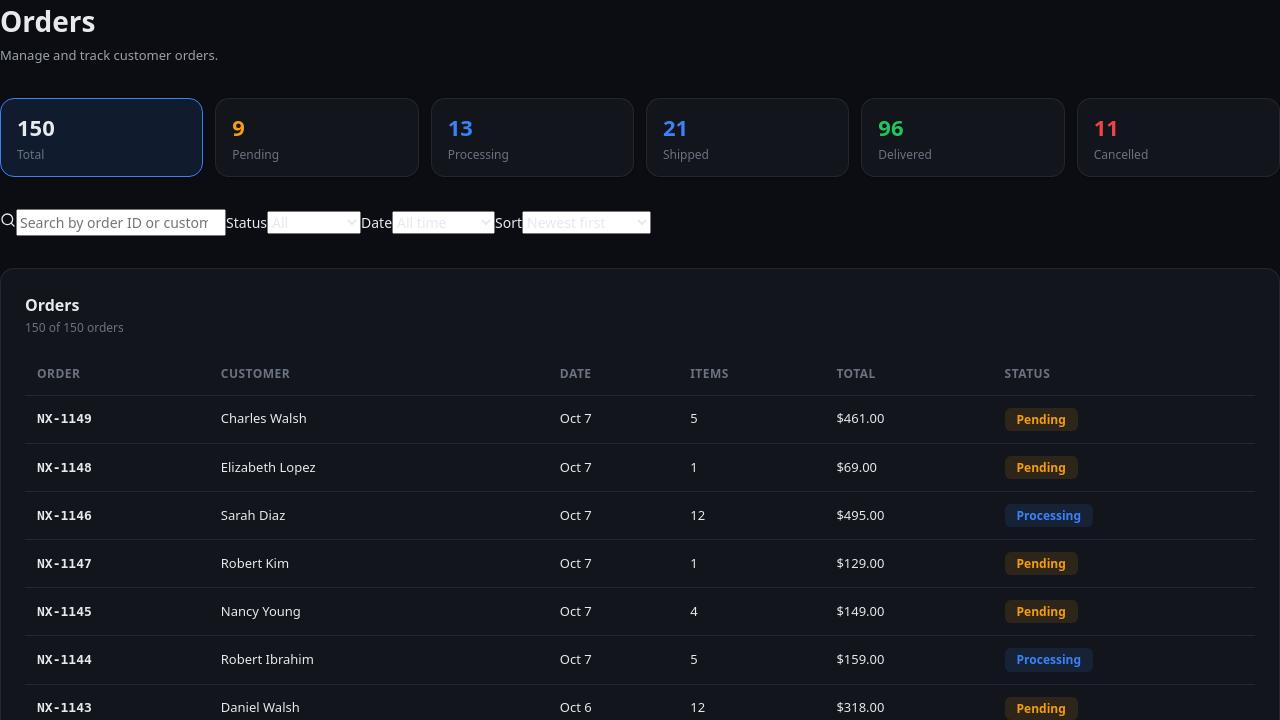
it: Orders page › opens the details drawer when an order row is activated
What coordinates should you click on to do the following:
click the button with aria-label "view order"
I would click on:
 (64, 419)
Its box is x1=37 y1=409 x2=92 y2=429.
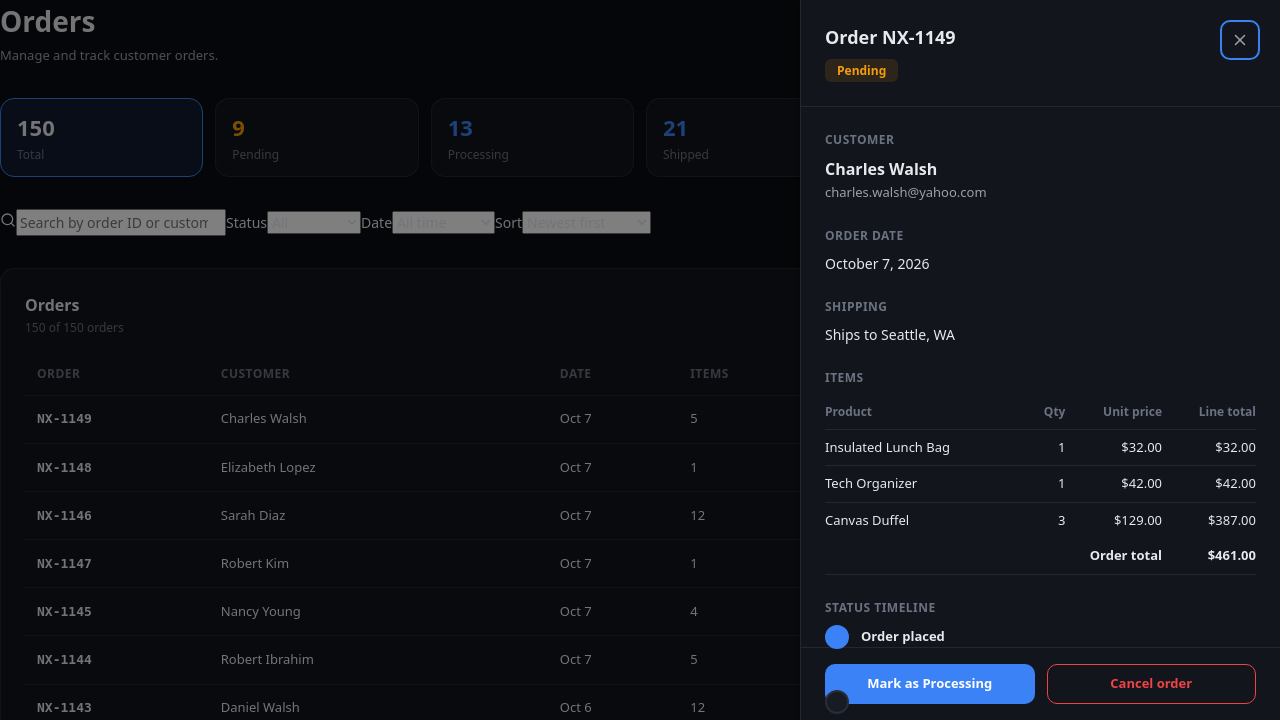
Expected: the dialog "Order NX-" is shown, x1=800 y1=0 x2=1279 y2=719
